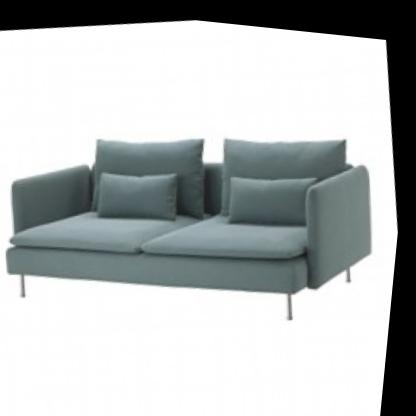Sofa: (0, 57, 407, 381)
